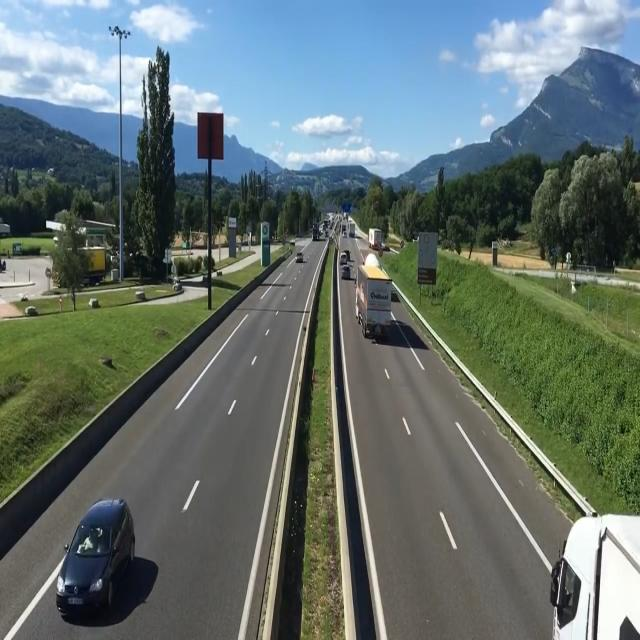car: (61, 497, 146, 623), (339, 262, 351, 283)
truck: (553, 516, 639, 640), (354, 257, 392, 343)
